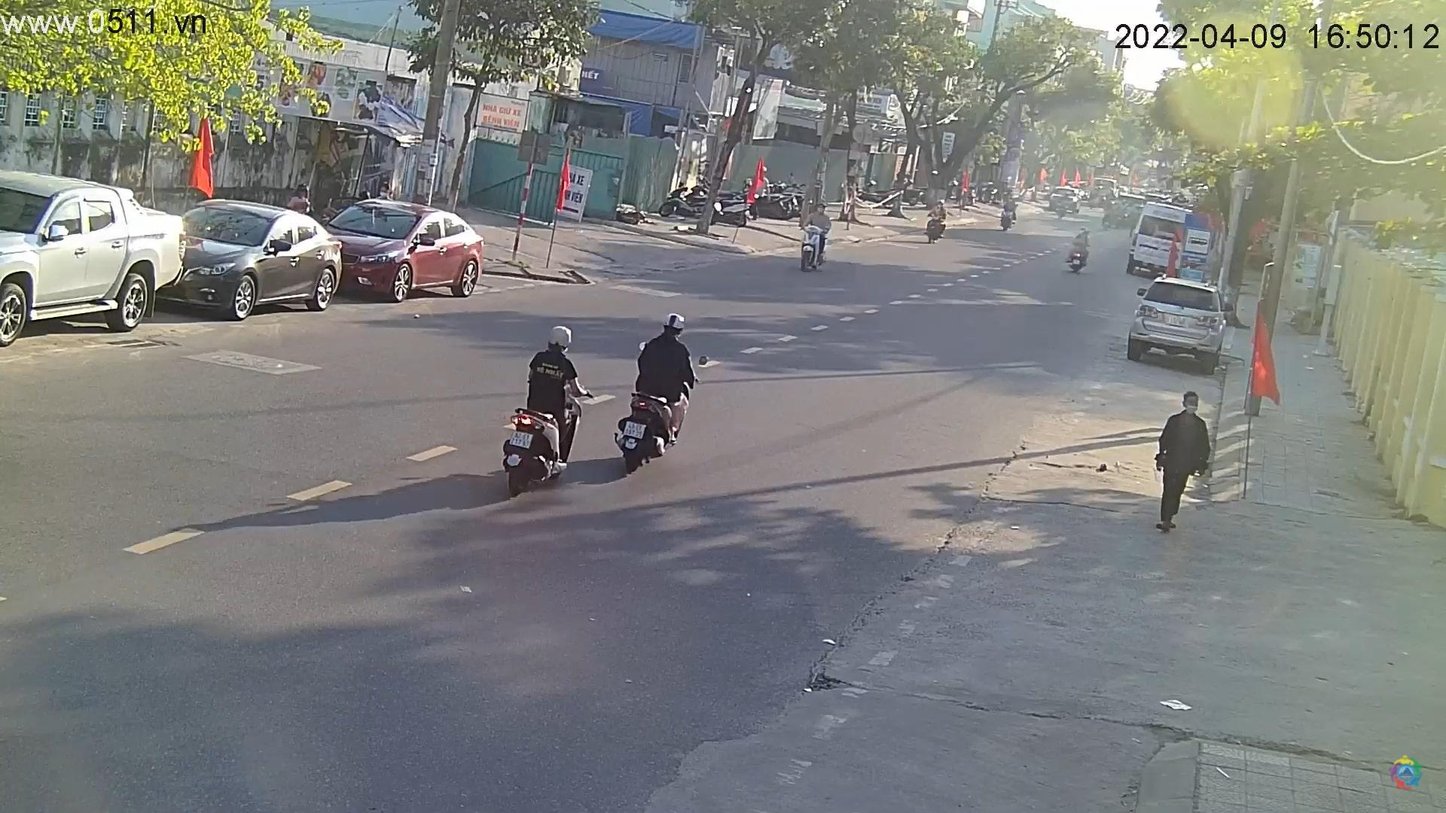car: (2, 170, 187, 350), (166, 201, 350, 321), (315, 197, 490, 305)
motorbike: (789, 205, 837, 274)
